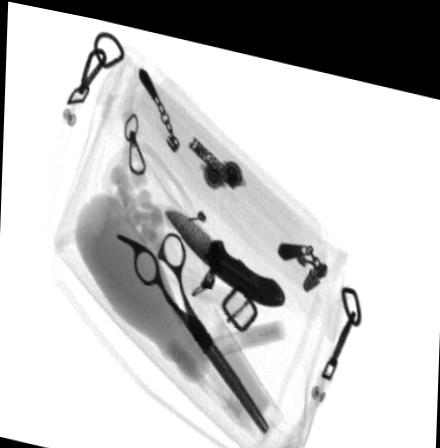Knife: (164, 203, 285, 295)
Scissors: (116, 223, 268, 422)
